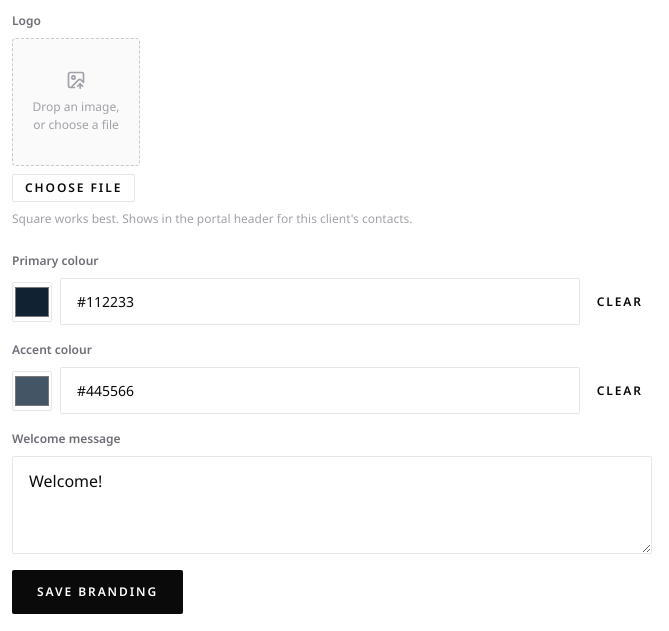
Scenario: ClientBrandingForm › clears the accent colour with its Clear button
Click the 2nd button "Clear": (620,390) [588,376,652,404]
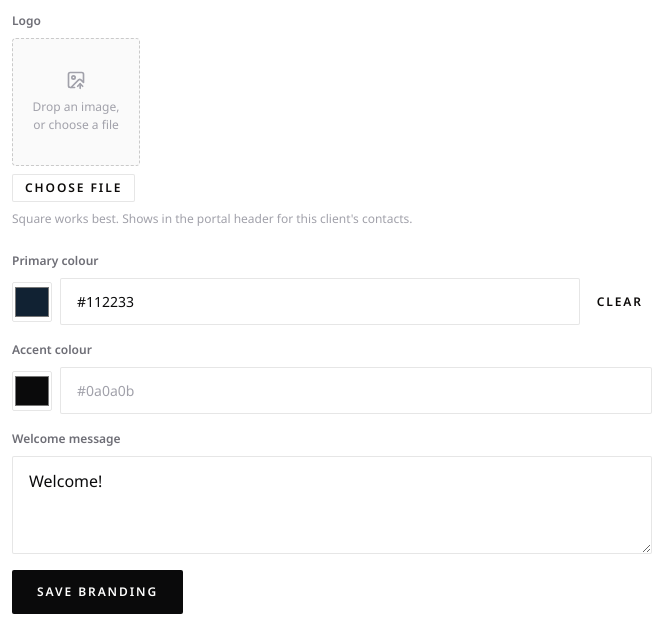
Expected: the field labelled "Primary colour" holds "#112233", [60,278,580,325]
Expected: the field labelled "Accent colour" is empty, [60,367,652,414]
